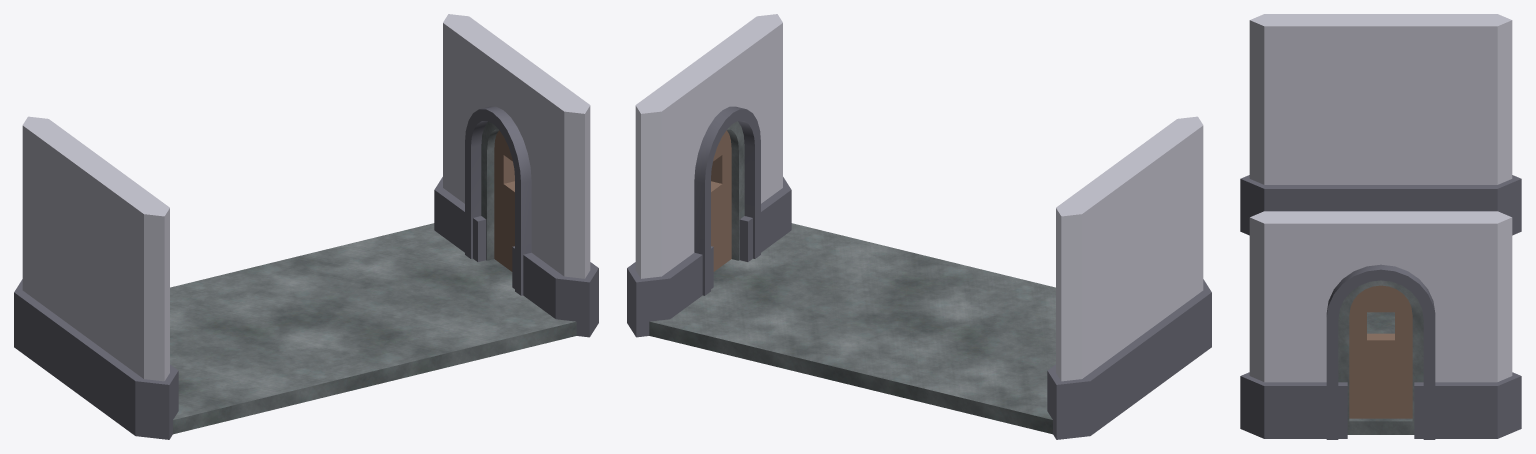
File: hallway_short_08.fbx
The picture shows the model from 3 angles, left to right: view 1: azimuth 30°, elevation 25°; view 2: azimuth 150°, elevation 25°; view 3: azimuth 270°, elevation 25°; orthographic projection. The views are drawn at different scales.
Parts seen in each view (by area): view 1: floor_04_108, wall_01_110, door_01_111; view 2: floor_04_108, wall_01_110, door_01_111; view 3: door_01_111, wall_01_110, floor_04_108.
Part boxes in pixels (x1,y1,x2,y2): floor_04_108: [170, 223, 576, 434]; wall_01_110: [14, 116, 178, 439]; door_01_111: [434, 14, 598, 337]; floor_04_108: [649, 223, 1055, 434]; wall_01_110: [1047, 116, 1211, 439]; door_01_111: [627, 14, 791, 337]; door_01_111: [1240, 211, 1521, 439]; wall_01_110: [1240, 14, 1521, 235]; floor_04_108: [1347, 312, 1414, 434].
Bounding box in the file's own units: 22.15 × 10 × 12.05.
